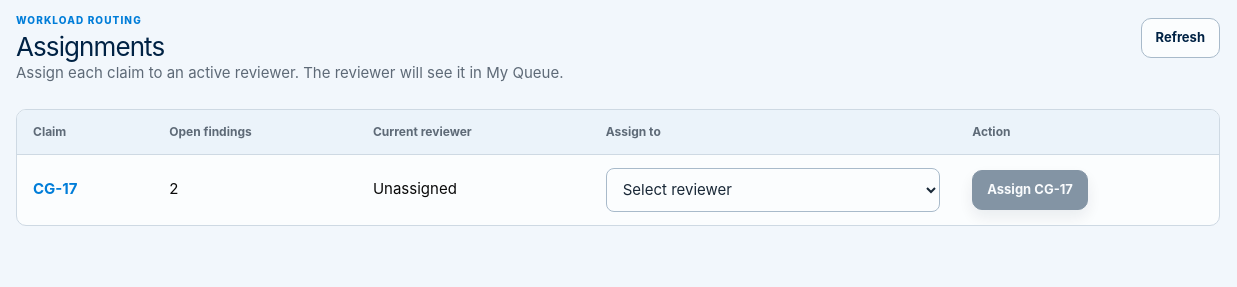
loads live claims and reviewers, then records an assignment
The width and height of the screenshot is (1237, 287).
Expected: the link "CG-17" is shown, x1=33 y1=179 x2=78 y2=198
Select "rev@example.test" in the dropdown named "Reviewer for CG-17" at (773, 190), box x1=606 y1=168 x2=940 y2=212
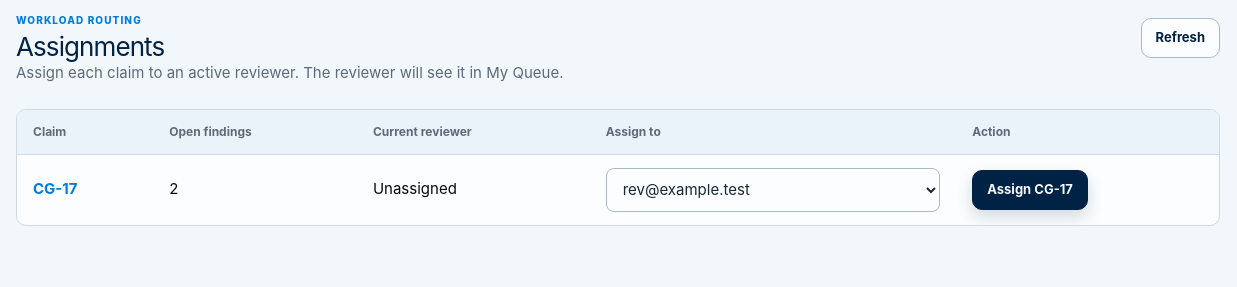
Click the button "Assign CG-17" at (1030, 190), box x1=972 y1=170 x2=1088 y2=210
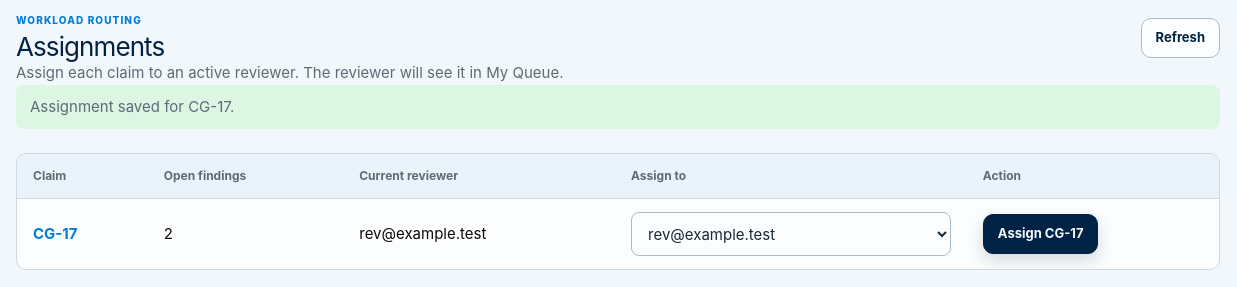
Now the text "Assignment saved for CG-17." is shown, box x1=16 y1=85 x2=1220 y2=129
